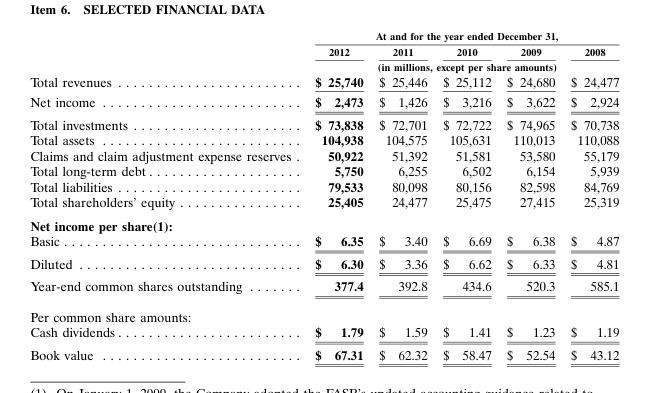table: (29, 29, 618, 362)
table column: (29, 29, 302, 362), (302, 29, 370, 362), (370, 29, 434, 362), (434, 29, 498, 362), (498, 29, 562, 362), (562, 29, 618, 362)
table column header: (29, 29, 618, 72)
table projected row header: (29, 300, 618, 323), (29, 213, 618, 232)
table row: (29, 274, 618, 300), (29, 251, 618, 274), (29, 300, 618, 323), (29, 91, 618, 112), (29, 112, 618, 132), (29, 342, 618, 362), (29, 72, 618, 91), (29, 194, 618, 213), (29, 213, 618, 232), (29, 232, 618, 251), (29, 323, 618, 342), (29, 147, 618, 163), (29, 178, 618, 194), (29, 43, 618, 58), (29, 132, 618, 147), (29, 163, 618, 178), (29, 29, 618, 43), (29, 58, 618, 72)
table spanning cell: (302, 29, 618, 43), (302, 58, 618, 72)
